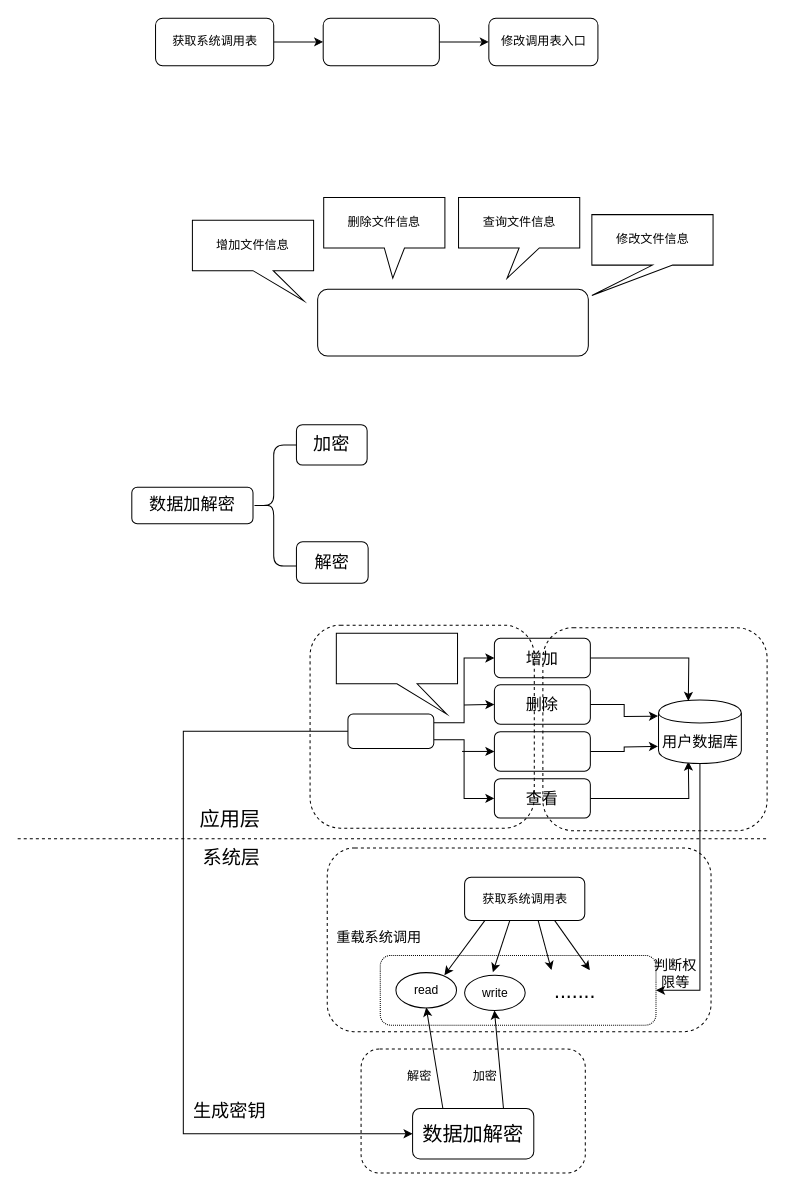
This 788x1191 diagram has some shape labels left out. The centre of each missing label's shape, as x and y in pixels:
修改: the point at 541,751
用户数据库管理: the point at 452,322
用户界面: the point at 390,730
获取用户身份、用户输入等: the point at 396,673
重载系统调用函数: the point at 380,41
